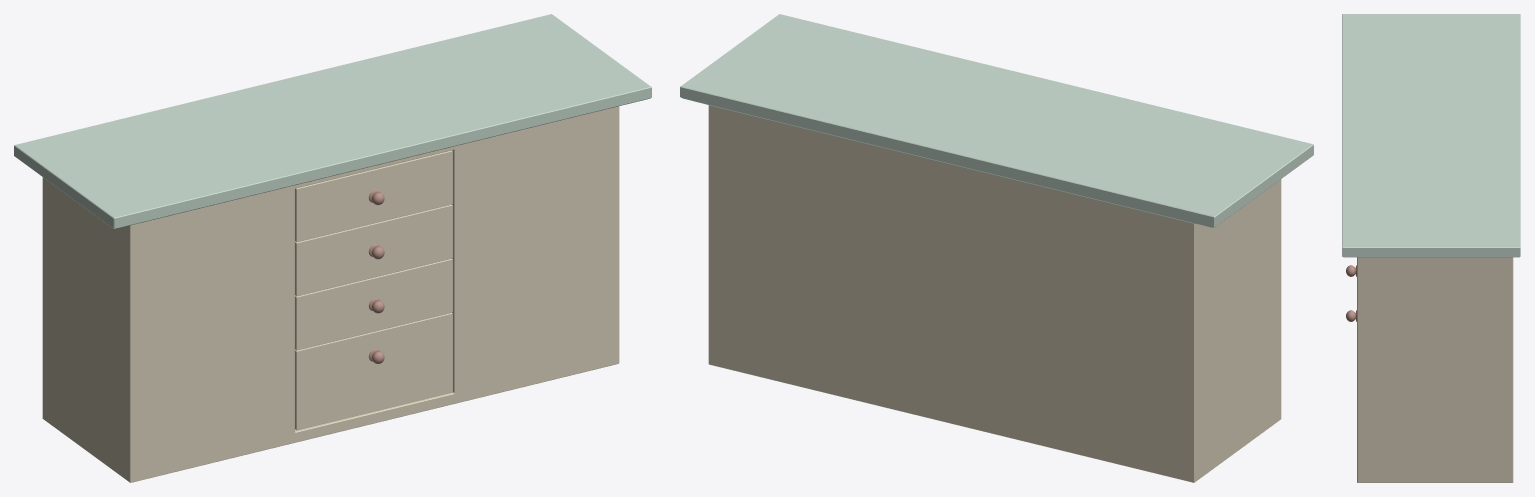
The model's file is KitchenCounter.fbx.
3 renders of one model, left to right at view 1: azimuth 30°, elevation 25°; view 2: azimuth 150°, elevation 25°; view 3: azimuth 270°, elevation 25°, orthographic. The views are drawn at different scales.
Parts seen in each view (by area): view 1: Counter, Drawer04, Drawer01, Drawer03, Drawer02; view 2: Counter; view 3: Counter.
Boxes of the visible parts, box(x1,y1,x2,y2) form: Counter: box(14, 14, 651, 482); Drawer04: box(295, 312, 452, 430); Drawer01: box(295, 150, 452, 241); Drawer03: box(295, 258, 452, 350); Drawer02: box(295, 204, 452, 296); Counter: box(680, 14, 1313, 482); Counter: box(1342, 14, 1520, 482).
Size of the model in its own units: 7.54 by 3.71 by 2.43.
